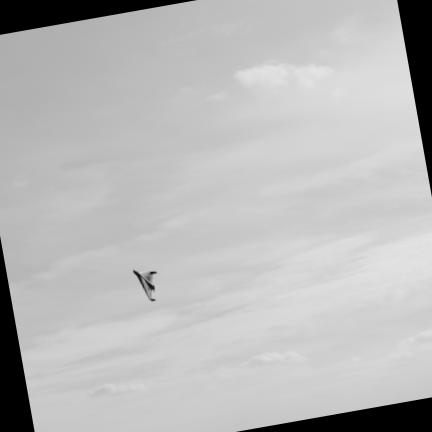Shahed: (133, 269, 156, 301)
